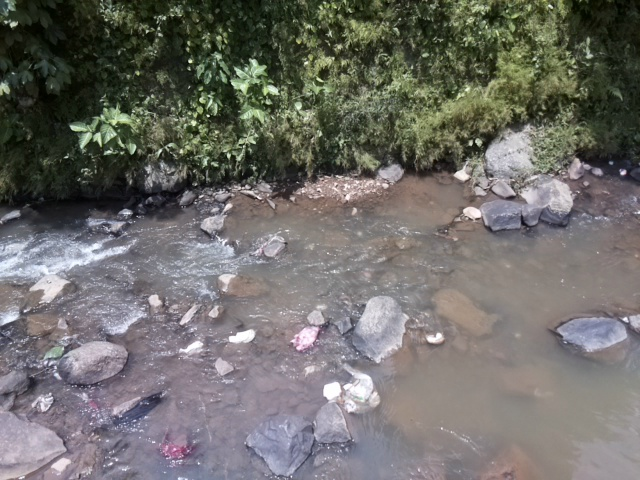Sampah_Plastik: (344, 368, 381, 415), (161, 439, 195, 460)
Sampah_Styrofoam: (320, 383, 344, 400), (229, 331, 255, 343)
